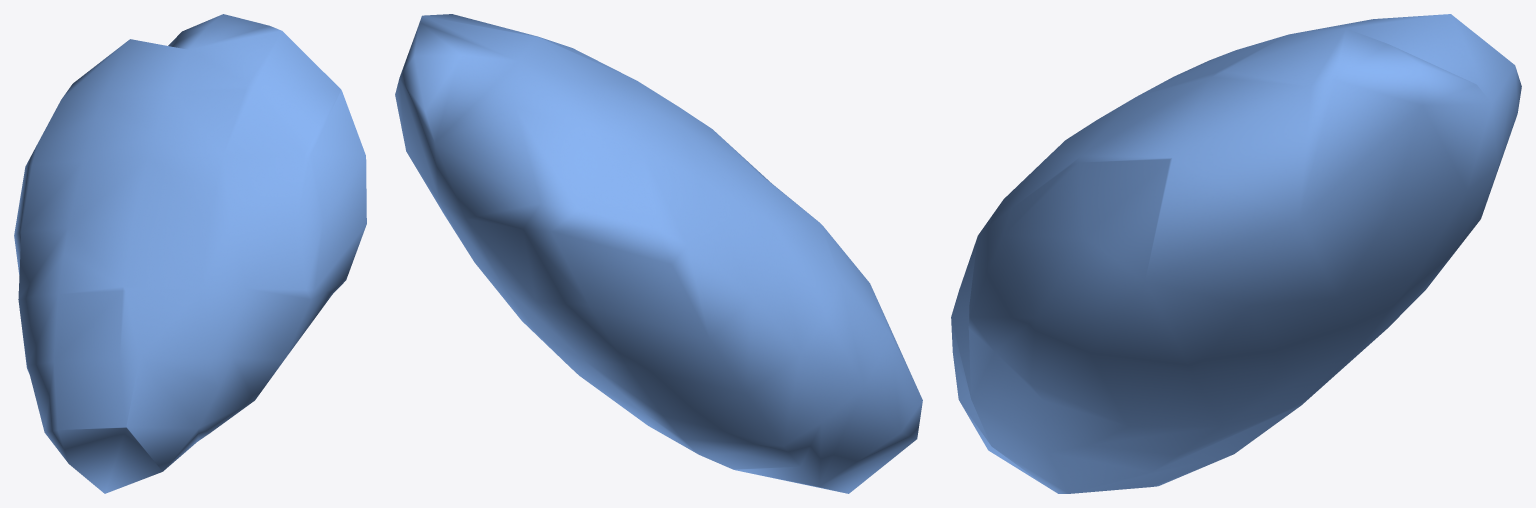
Rendered from tear.gltf.
3 renders of one model, left to right at view 1: azimuth 30°, elevation 25°; view 2: azimuth 150°, elevation 25°; view 3: azimuth 270°, elevation 25°, orthographic. The views are drawn at different scales.
Parts seen in each view (by area): view 1: Layer_2; view 2: Layer_2; view 3: Layer_2.
Part boxes in pixels (<box>): Layer_2: <box>14,14,366,493</box>; Layer_2: <box>395,14,922,493</box>; Layer_2: <box>951,14,1521,493</box>.
Bounding box in the file's own units: 3.75 × 3.81 × 3.3.
Materials: 1 (1 with a texture image).
